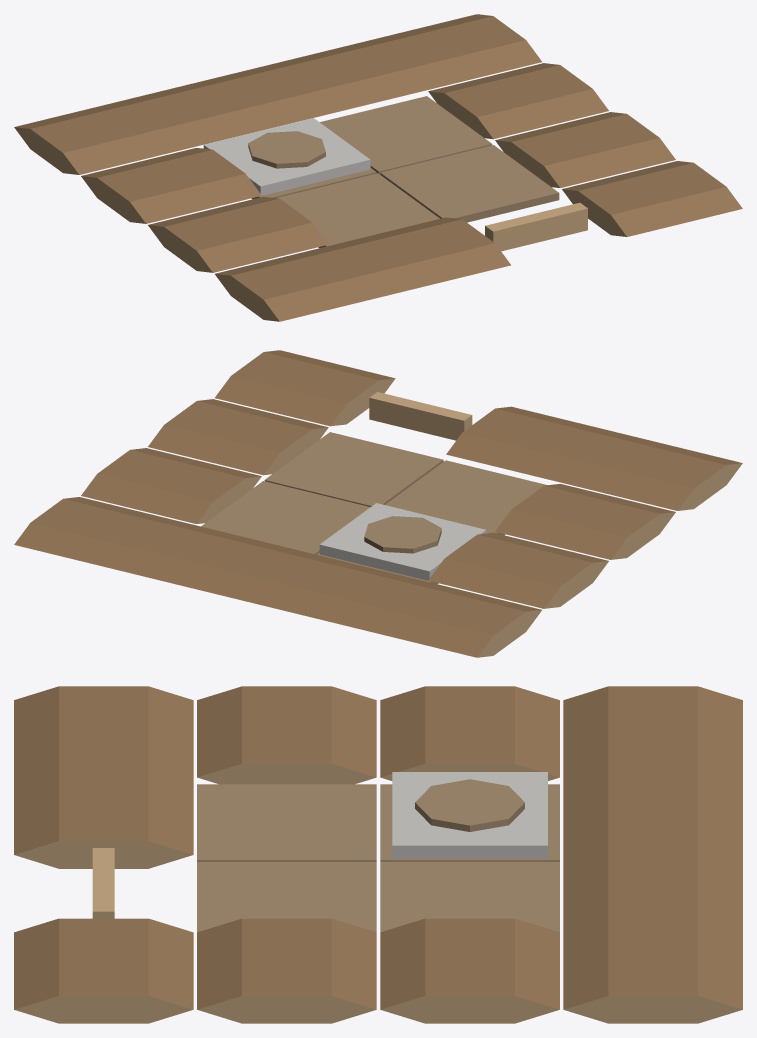
The model's file is building_forge_foundation.glb.
The picture shows the model from 3 angles, top to bottom: view 1: azimuth 30°, elevation 25°; view 2: azimuth 150°, elevation 25°; view 3: azimuth 270°, elevation 25°; orthographic projection. The views are drawn at different scales.
Parts seen in each view (by area): view 1: building_forge_foundation; view 2: building_forge_foundation; view 3: building_forge_foundation.
Boxes of the visible parts, x1,y1,x2,y2 form: building_forge_foundation: (14, 14, 742, 321); building_forge_foundation: (14, 350, 742, 657); building_forge_foundation: (14, 686, 742, 1023).
Bounding box in the file's own units: 4 × 0.18 × 3.98.
